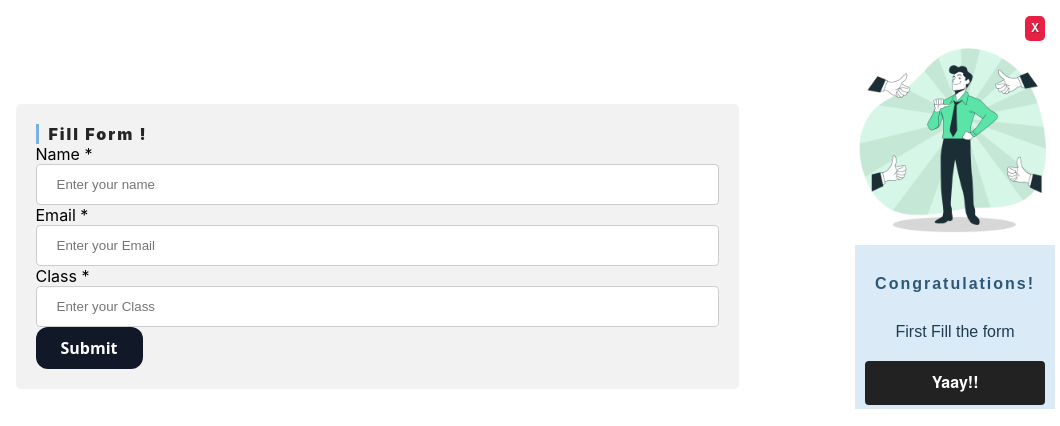
it: App component check all the test case › should check form first field not fill
Click the button "Submit" at (89, 348), box [36,326,142,368]
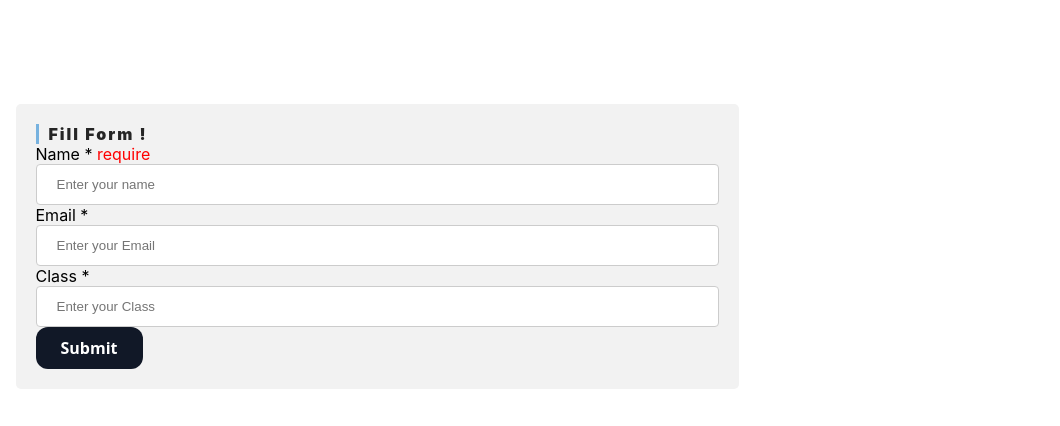
Result: the text "require" is shown at [97,144,150,164]
